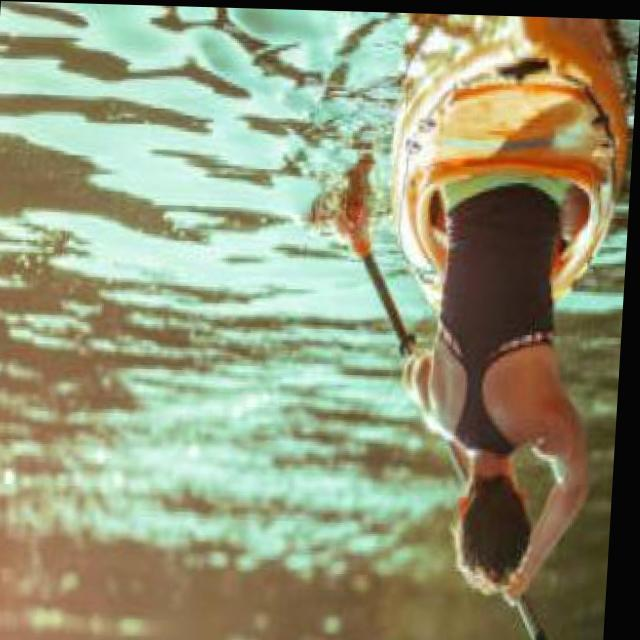kayak: (394, 10, 630, 379), (398, 12, 625, 306)
